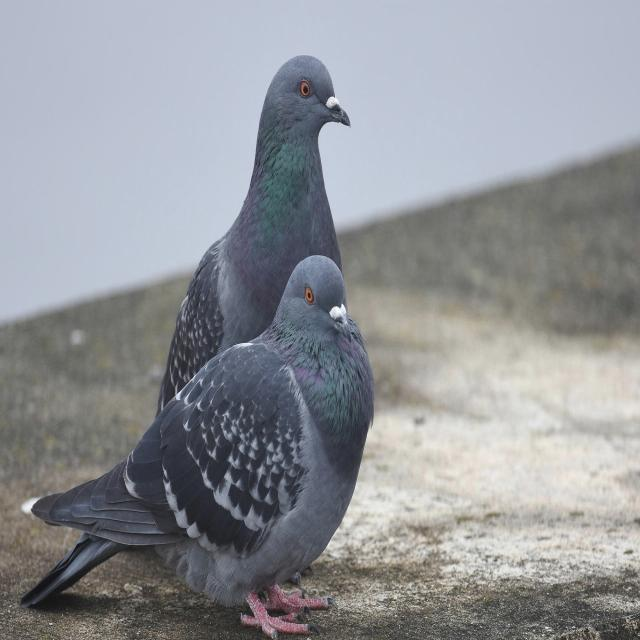pigeon: (22, 255, 374, 638), (156, 55, 350, 416)
